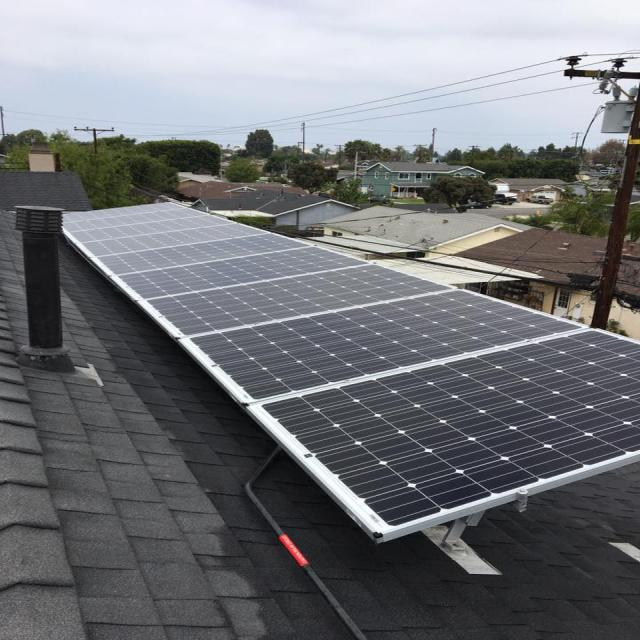clean-solar-panel: (67, 205, 637, 542)
